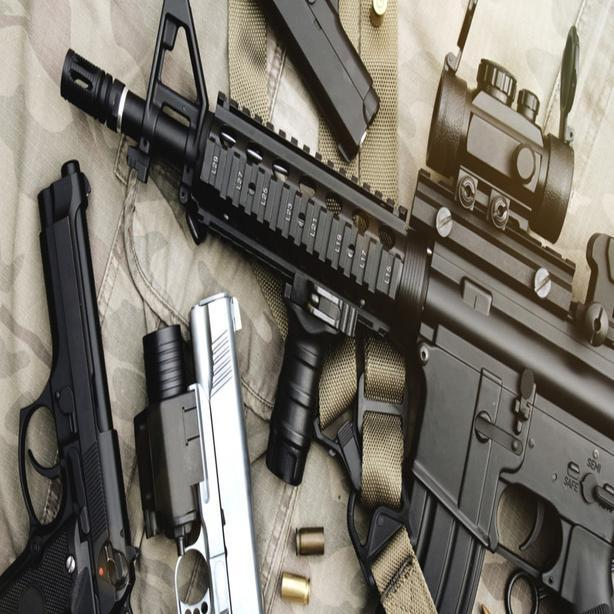Firearm: (57, 0, 614, 614), (0, 154, 146, 614), (133, 292, 265, 614)
